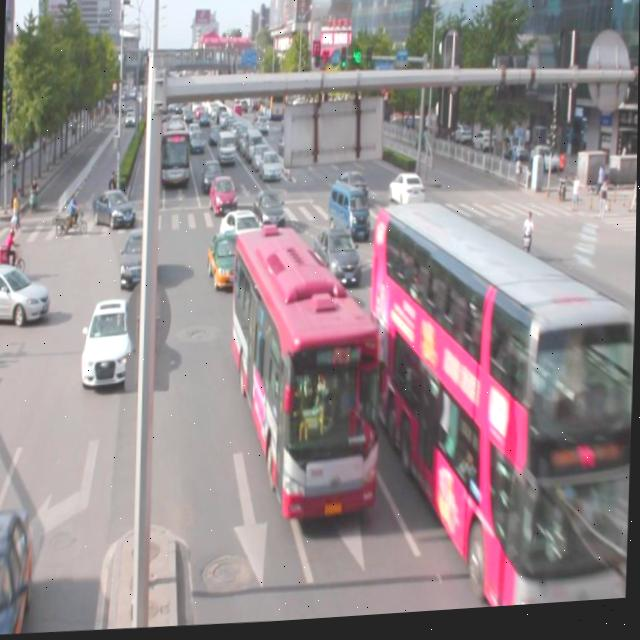car: (445, 225, 509, 302), (82, 296, 136, 387), (0, 507, 33, 635), (311, 228, 363, 292), (207, 233, 246, 294), (120, 228, 155, 291), (219, 210, 266, 255)
truck: (327, 186, 371, 247)
van: (366, 196, 637, 620), (229, 227, 382, 524)
